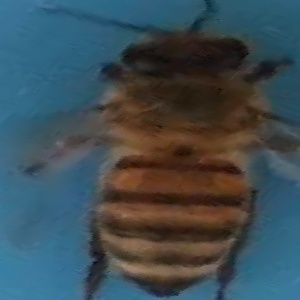bee: (35, 8, 295, 300)
